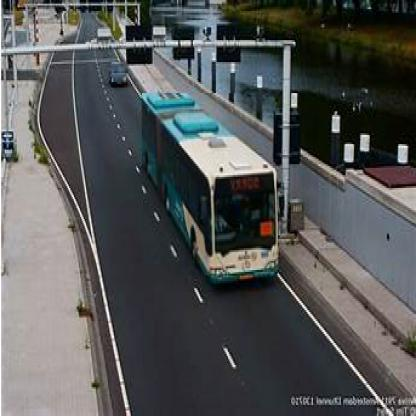bus: (142, 94, 276, 278)
car: (112, 63, 129, 85)
